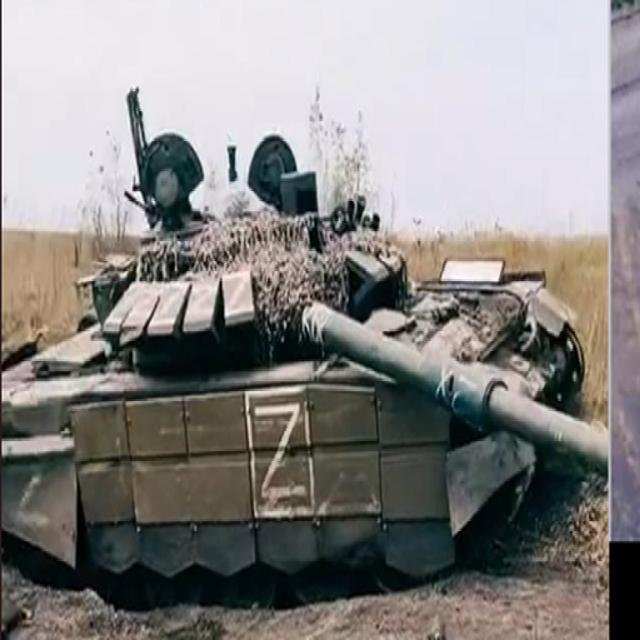TANK: (1, 129, 605, 602)
